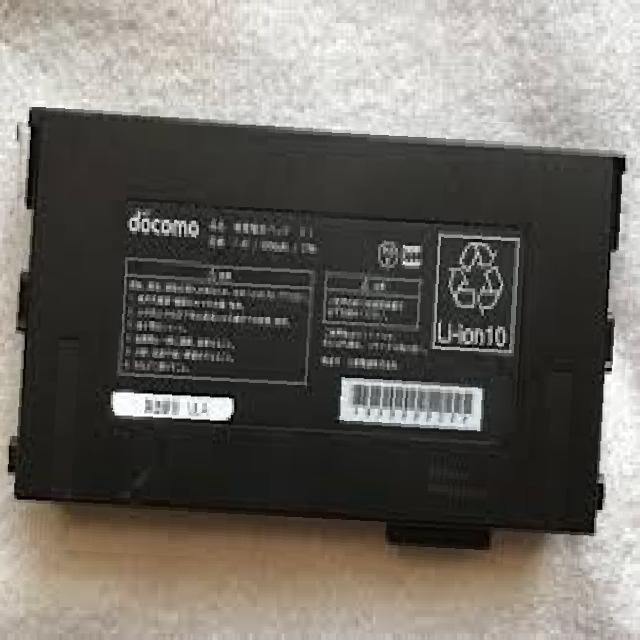Battery: (14, 60, 640, 561)
